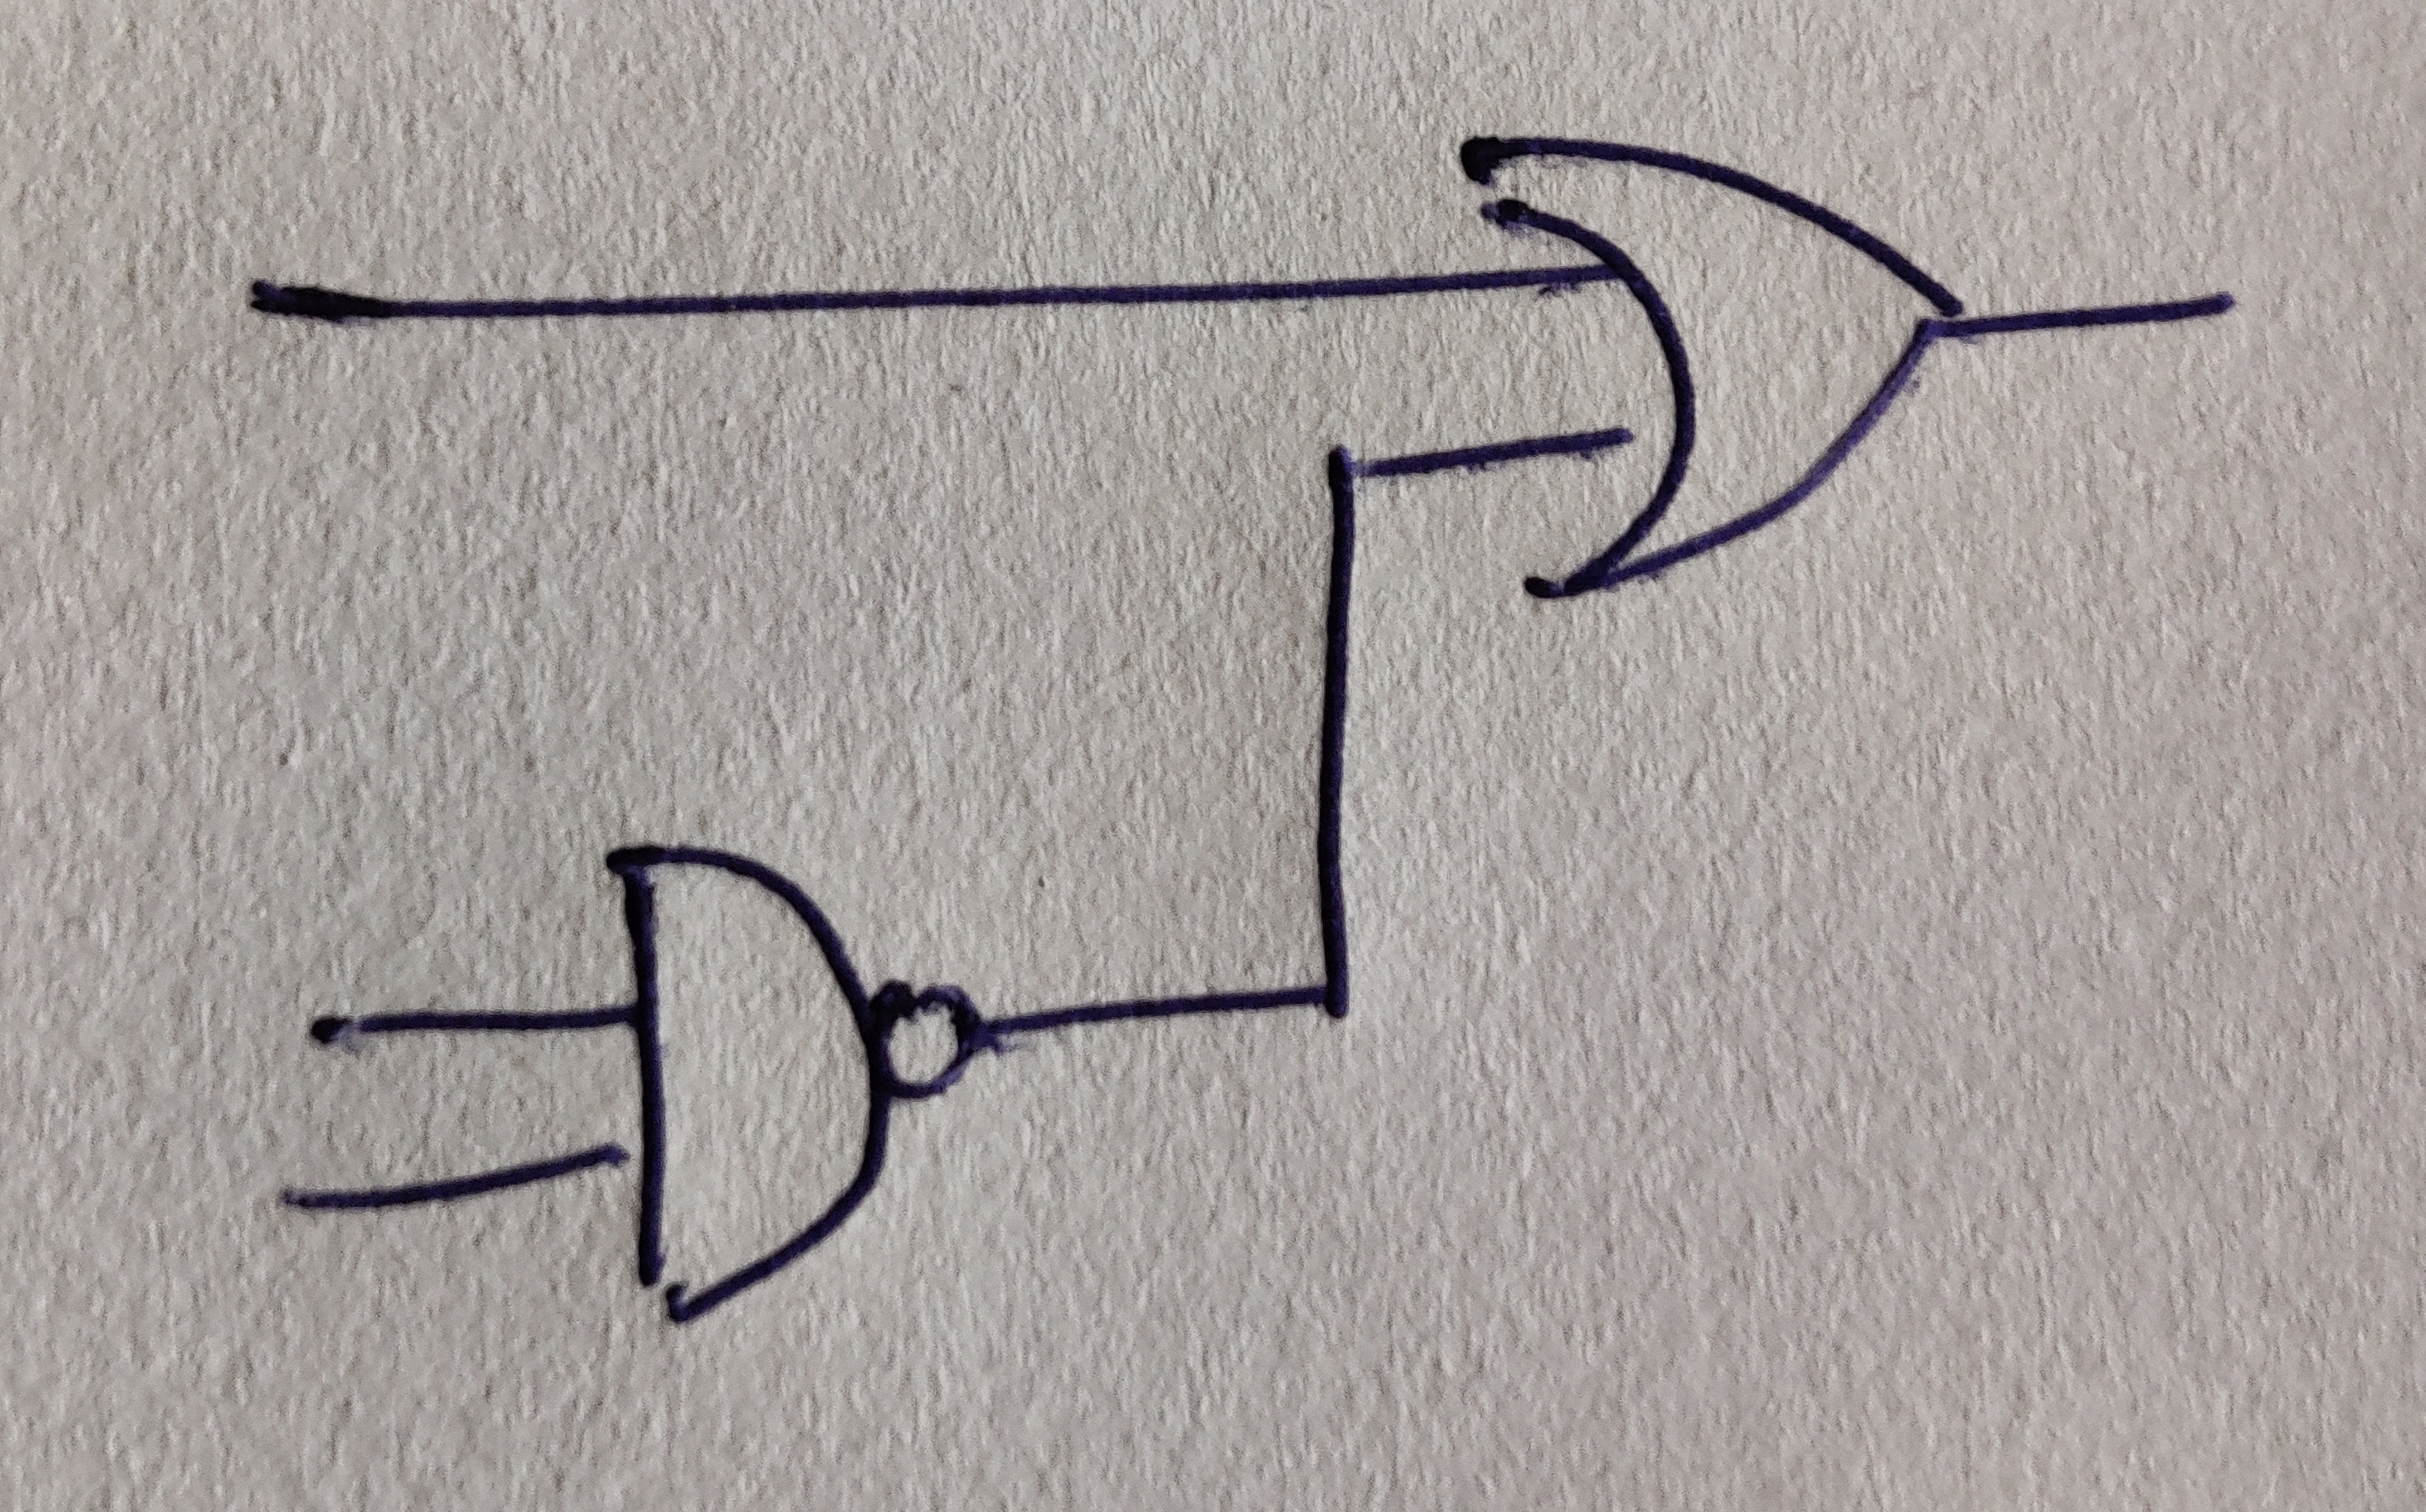and: (606, 845, 892, 1322)
not: (873, 981, 982, 1097)
or: (1459, 136, 1964, 599)
